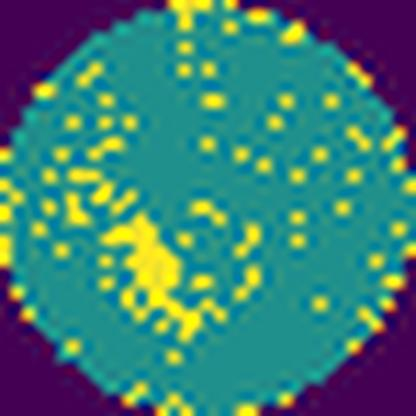Loc: (101, 212, 223, 342)
